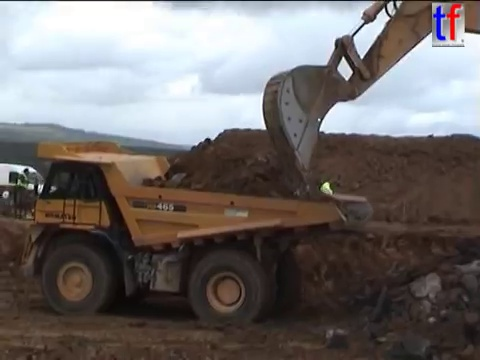excavator: (257, 1, 480, 203)
truck: (1, 138, 374, 328)
worker: (14, 166, 38, 214), (316, 176, 336, 222)
